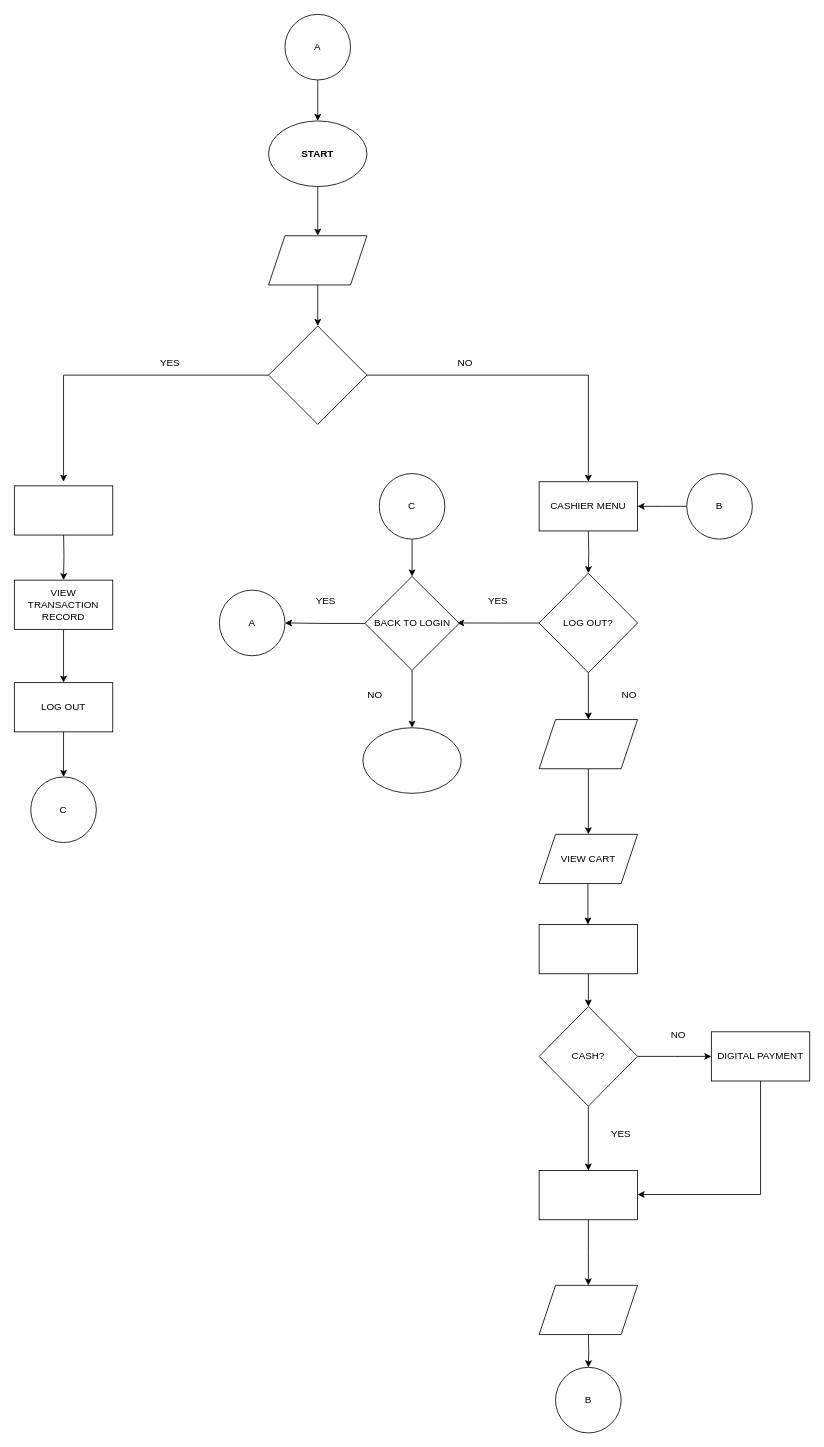
The diagram is 824 pixels wide and 1447 high, and some of its shapes have lost their labels. The shapes that lost their labels are listed below. From the top down, each one's box as (x1, y1, x2, y2) in pixels, then its label:
(268, 235, 367, 285): Login - Input Username and Password
(268, 325, 367, 424): ADMIN?
(14, 485, 113, 535): ADMIN MENU
(362, 727, 461, 793): END
(538, 719, 638, 769): ADD ITEM DELETE CHART
(538, 924, 638, 974): CHECKOUT
(538, 1170, 638, 1220): PROCESS PAYMENT
(538, 1285, 638, 1335): GENERATE RECEIPT
